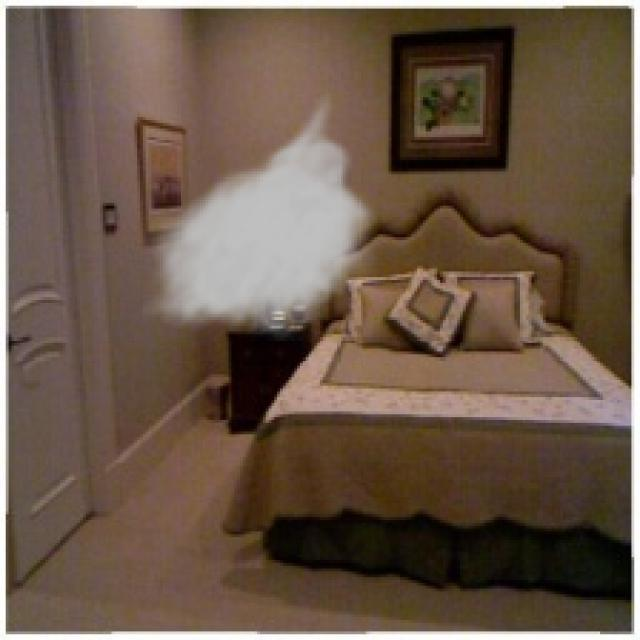Smoke: (140, 88, 380, 340)
